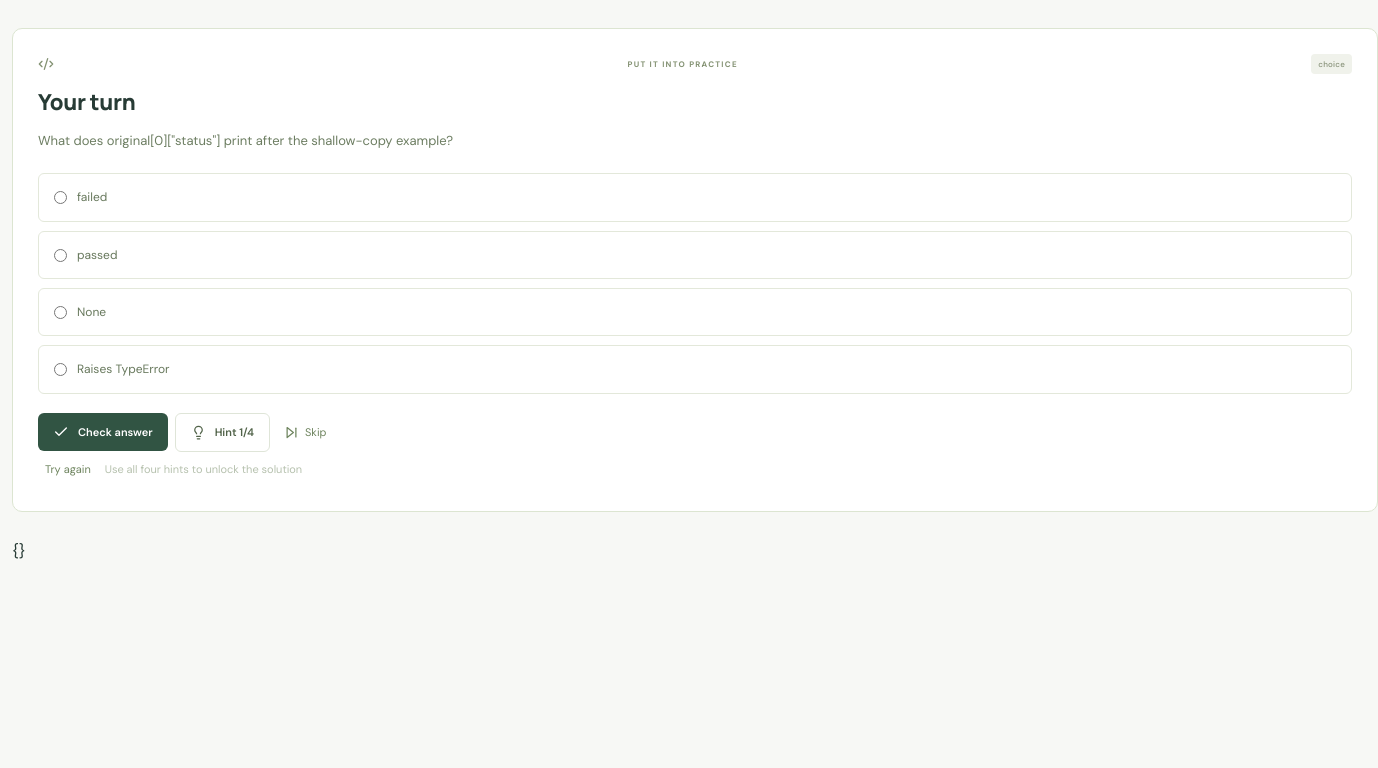
validates answers and records retries
What coordinates should you click on to do the following:
click the radio button labelled "failed"
I would click on:
 (60, 198)
Its box is [54, 191, 67, 204].
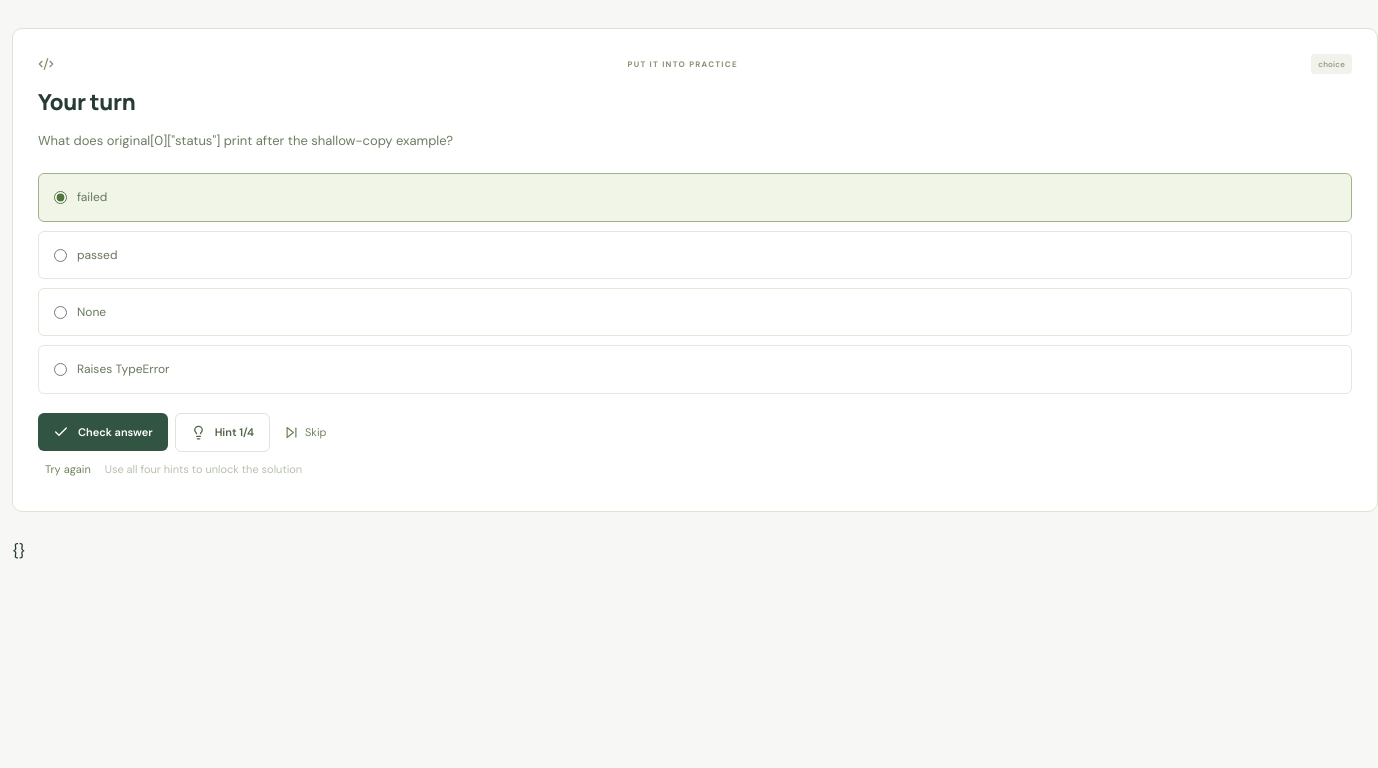
What coordinates should you click on to do the following:
click the button "Check answer"
I would click on:
 (103, 432)
Its box is [38, 413, 168, 451].
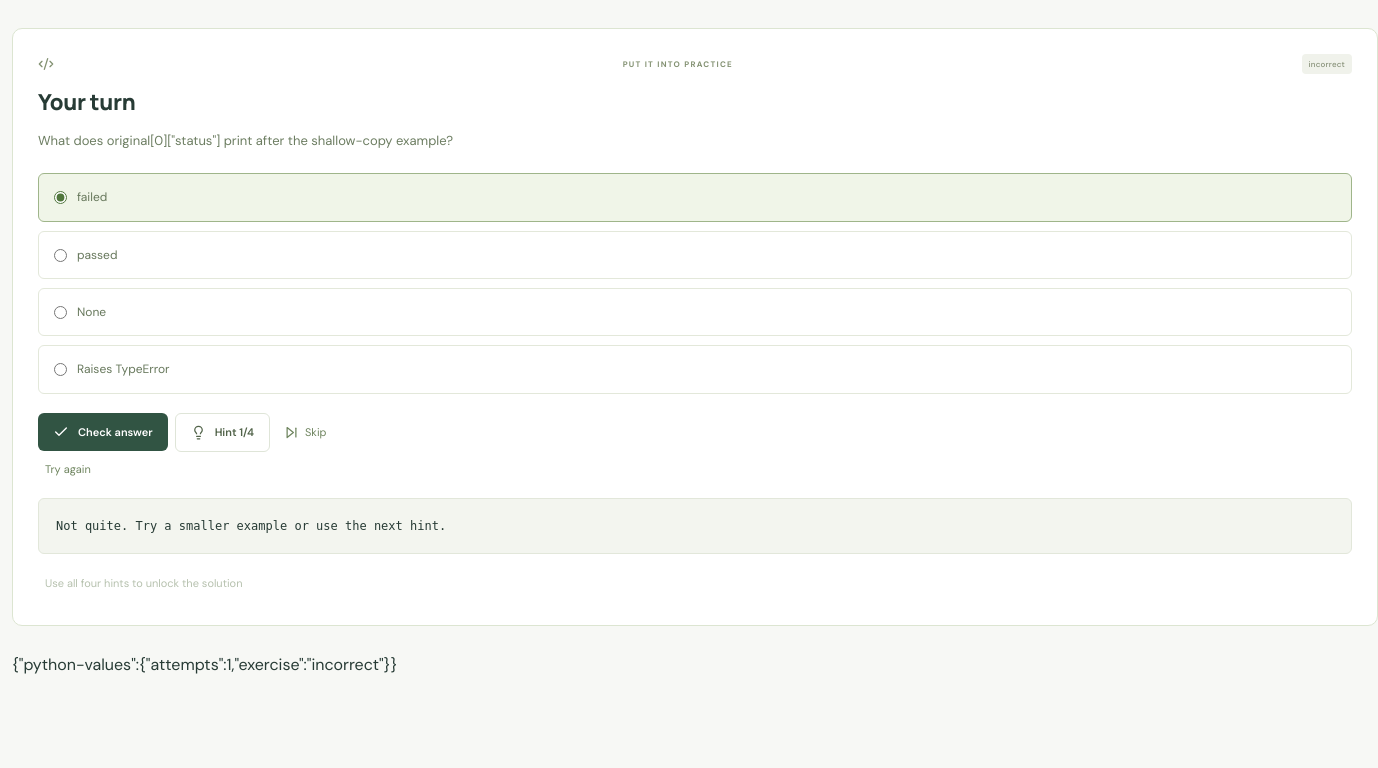
Expected: the text with test id "state" shows "incorrect", [12, 654, 397, 675]
What coordinates should you click on to do the following:
click the radio button labelled "passed"
I would click on:
 (60, 255)
Its box is [54, 248, 67, 262].
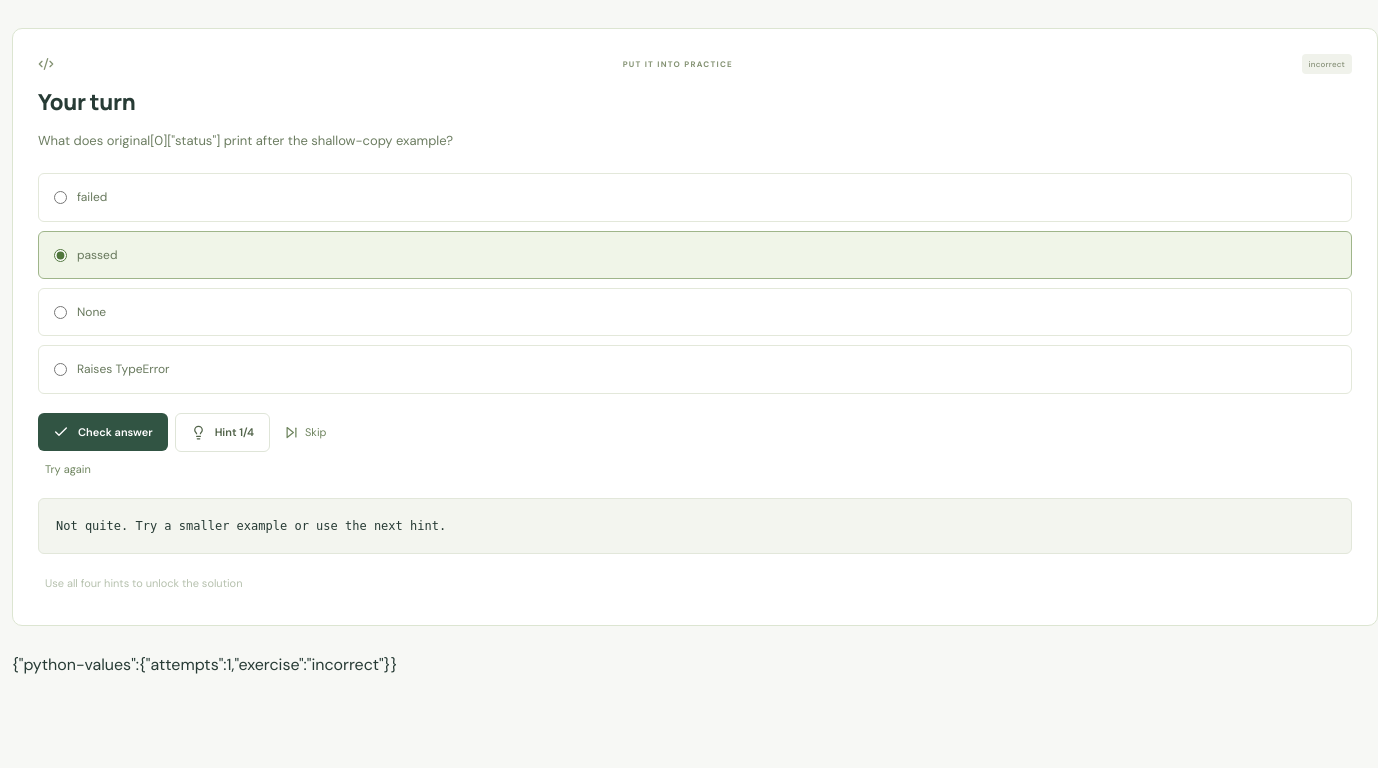
What coordinates should you click on to do the following:
click the button "Check answer"
I would click on:
 (103, 432)
Its box is [38, 413, 168, 451].
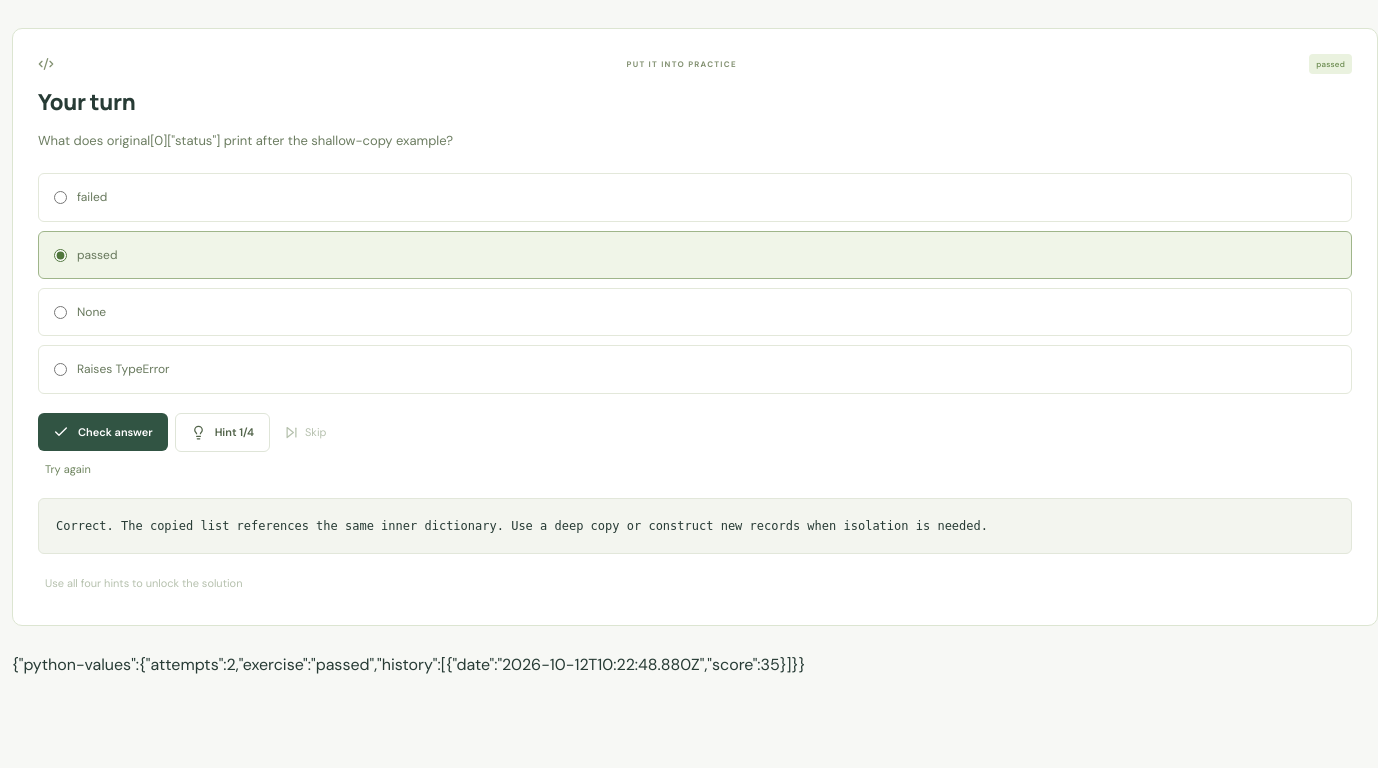
Expected: the text with test id "state" shows "\"exercise\":\"passed\"", [12, 654, 805, 675]
Expected: the text with test id "state" shows "\"attempts\":2", [12, 654, 805, 675]
